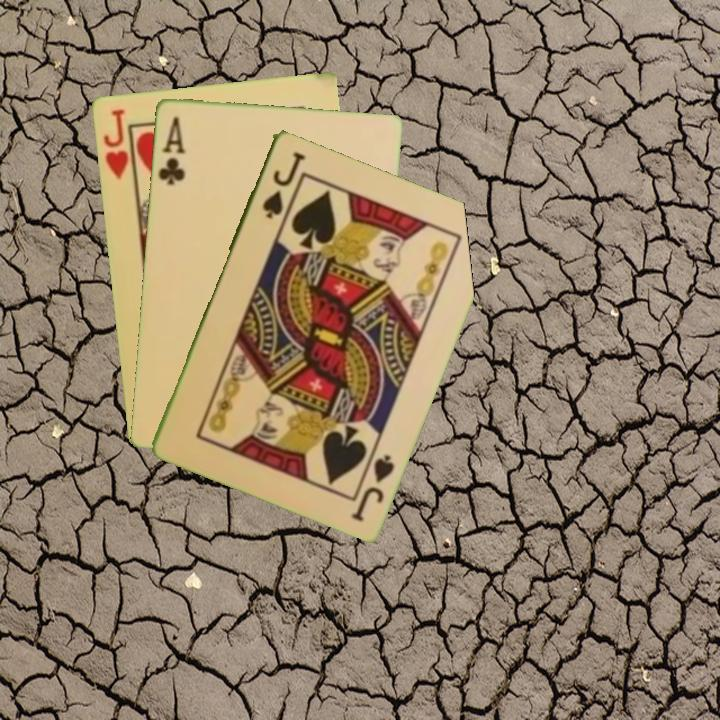Ac: (154, 112, 187, 188)
Jh: (99, 105, 131, 182)
Js: (347, 450, 397, 524), (258, 147, 306, 221)
